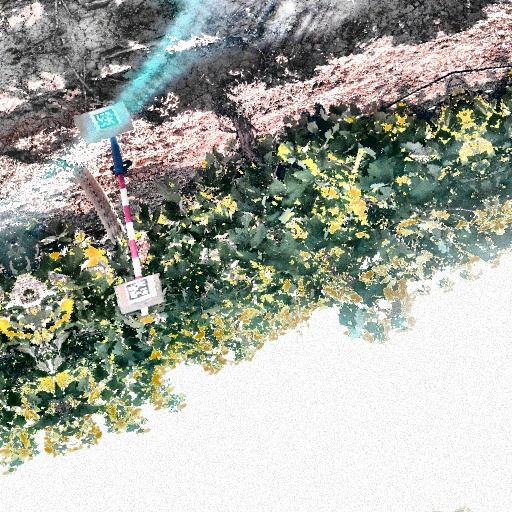QR: (91, 107, 120, 131), (124, 278, 152, 302)
